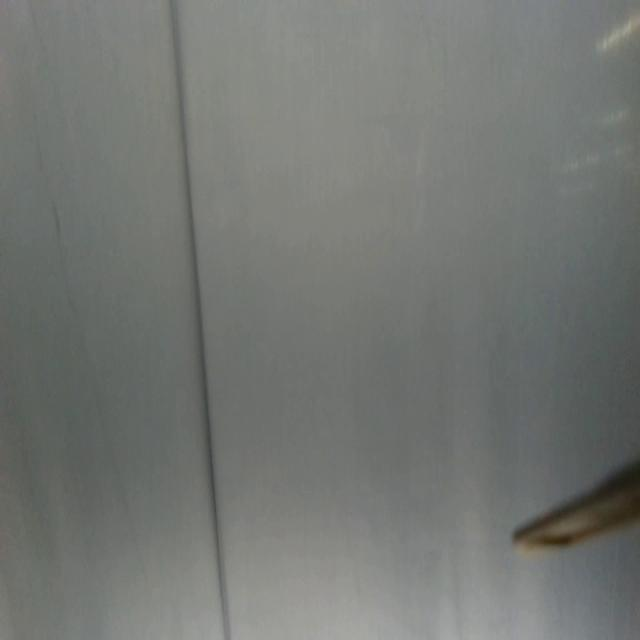crease: (52, 195, 156, 604), (168, 1, 232, 640)
